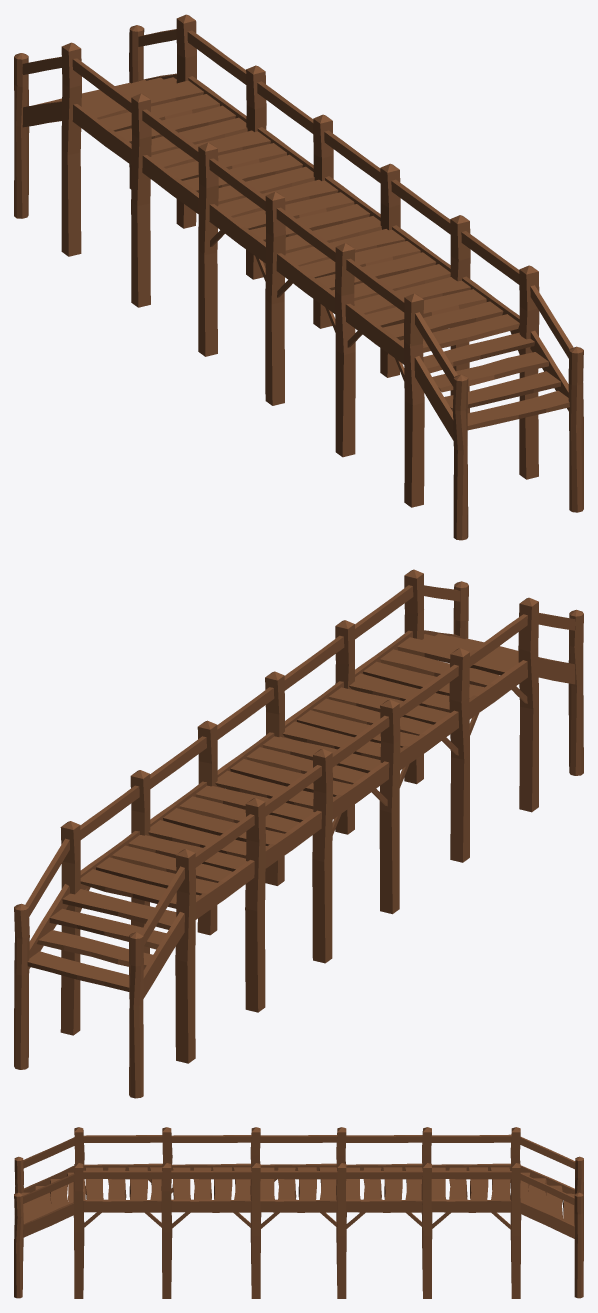
Rendered from Brücke.fbx.
The picture shows the model from 3 angles, top to bottom: view 1: azimuth 30°, elevation 25°; view 2: azimuth 150°, elevation 25°; view 3: azimuth 270°, elevation 25°; orthographic projection. The views are drawn at different scales.
Parts seen in each view (by area): view 1: Brücke; view 2: Brücke; view 3: Brücke.
Part boxes in pixels (<box>): Brücke: <box>14,14,583,540</box>; Brücke: <box>14,569,583,1098</box>; Brücke: <box>14,1127,583,1298</box>.
Bounding box in the file's own units: 173 × 270 × 1038.
